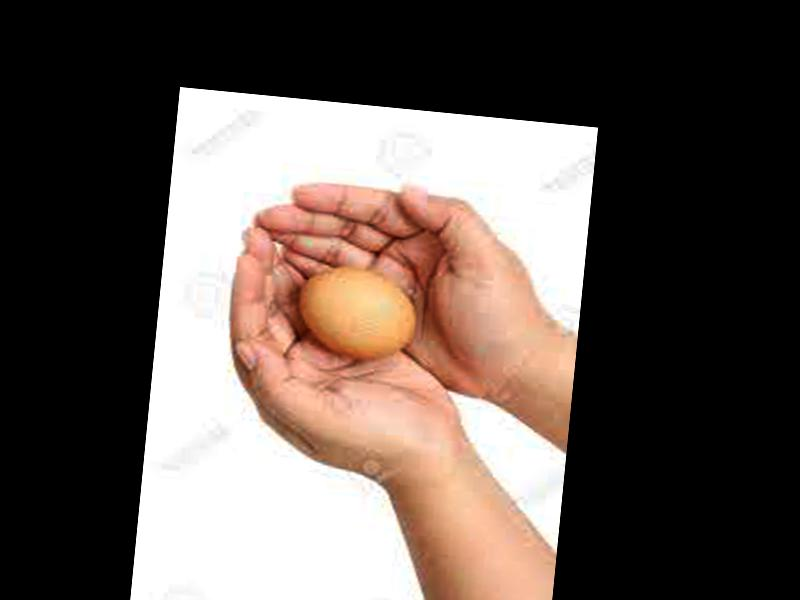Eggs: (297, 265, 417, 363)
